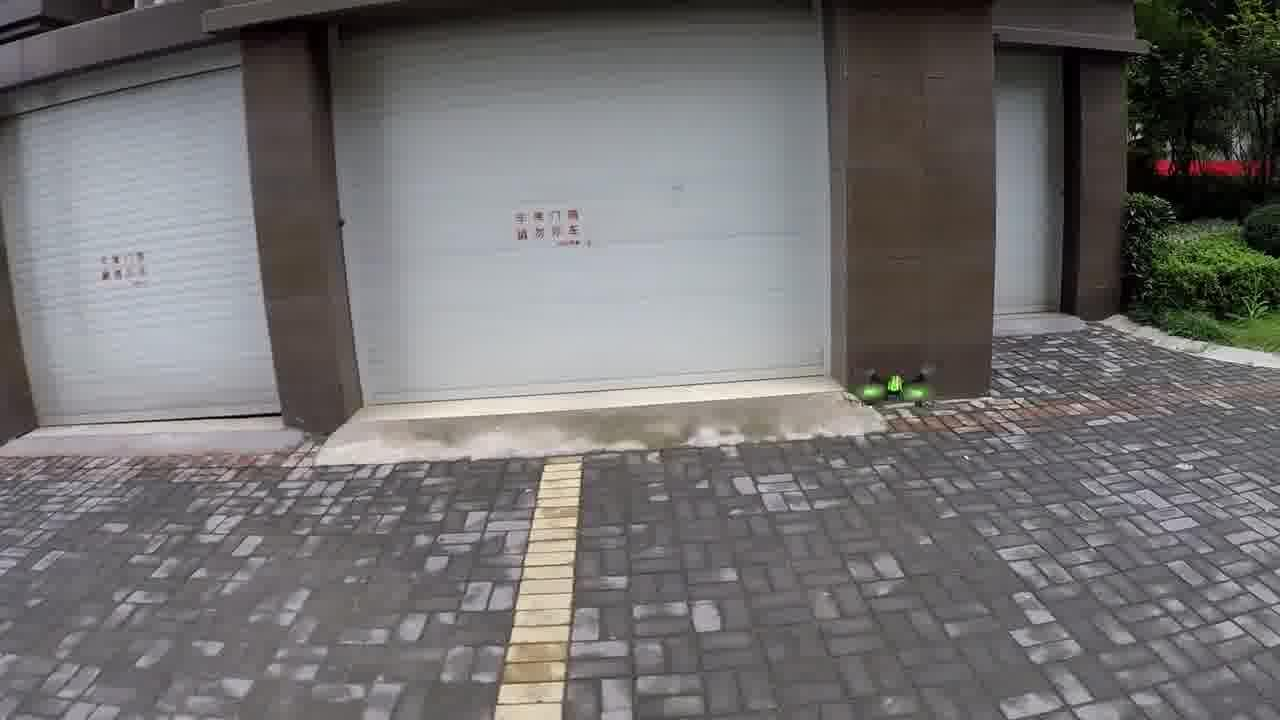drone: (840, 351, 945, 412)
